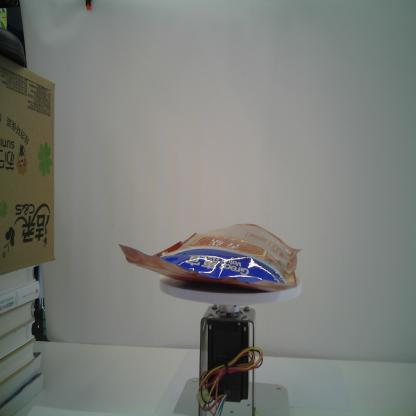Dried Food: (117, 223, 302, 293)
